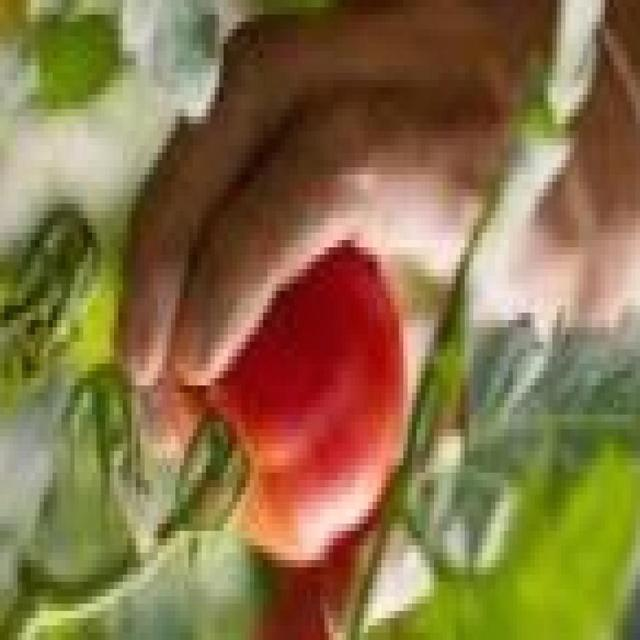Healthy Fruit: (128, 170, 263, 387)
